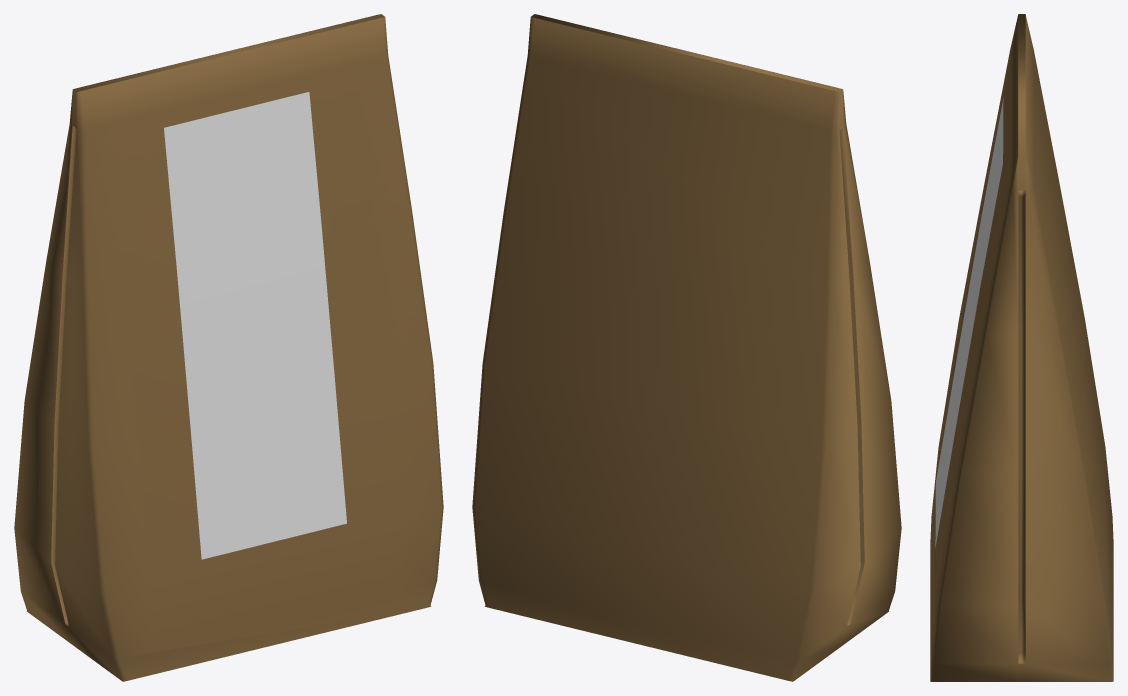
The model's file is sugarbag.glb.
The picture shows the model from 3 angles, left to right: view 1: azimuth 30°, elevation 25°; view 2: azimuth 150°, elevation 25°; view 3: azimuth 270°, elevation 25°; orthographic projection. The views are drawn at different scales.
Visible parts, largest first — view 1: BagCoffe; view 2: BagCoffe; view 3: BagCoffe.
Boxes of the visible parts, x1,y1,x2,y2 form: BagCoffe: [14, 14, 443, 681]; BagCoffe: [472, 14, 901, 681]; BagCoffe: [930, 14, 1113, 681].
Bounding box in the file's own units: 0.8562 × 1.29 × 0.4084.
